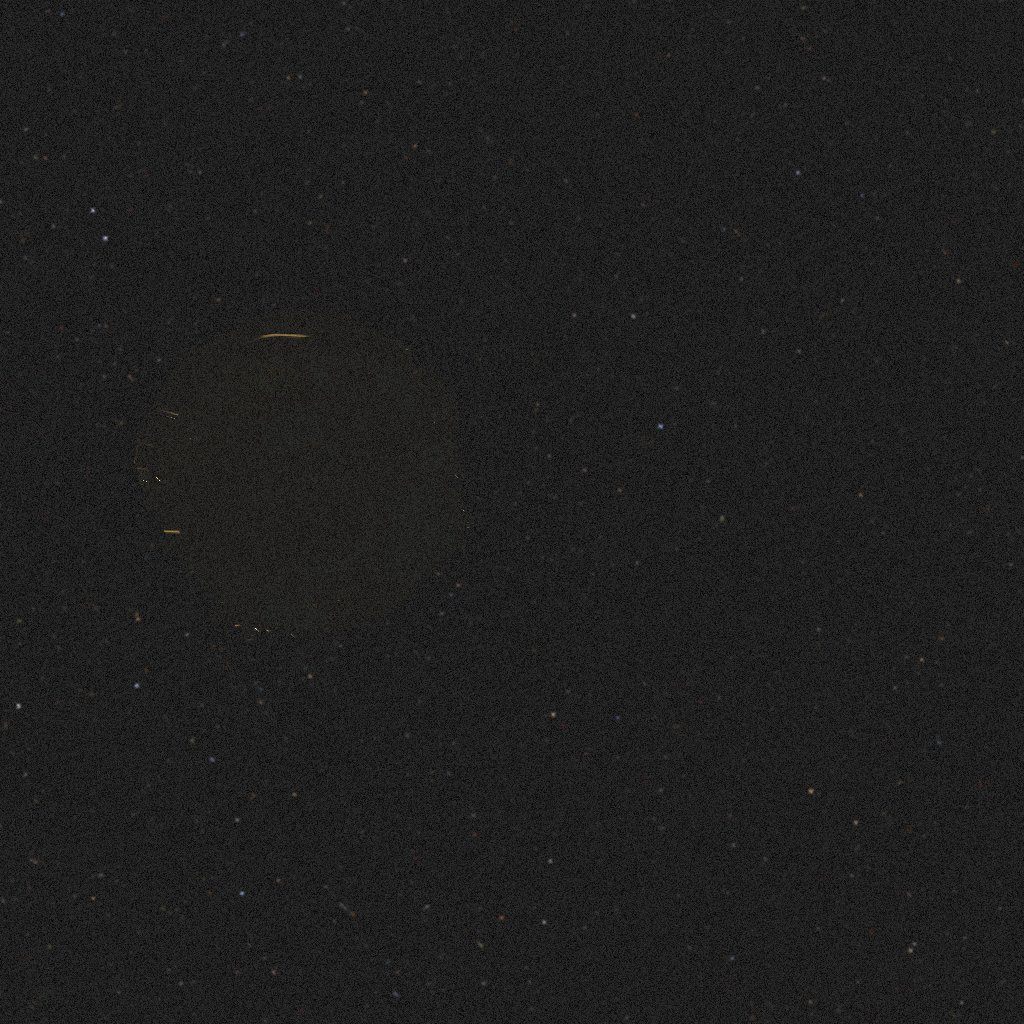lisa_pathfinder: (134, 308, 475, 641)
